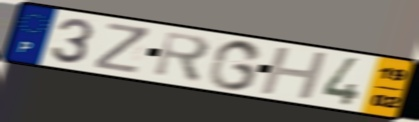3: (49, 17, 96, 65)
4: (319, 55, 363, 108)
G: (205, 39, 265, 92)
H: (257, 46, 332, 102)
R: (150, 29, 213, 86)
Z: (92, 20, 152, 76)
